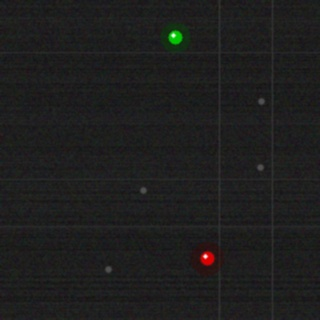green_normal: (166, 28, 184, 46)
red_fault: (198, 249, 216, 267)
